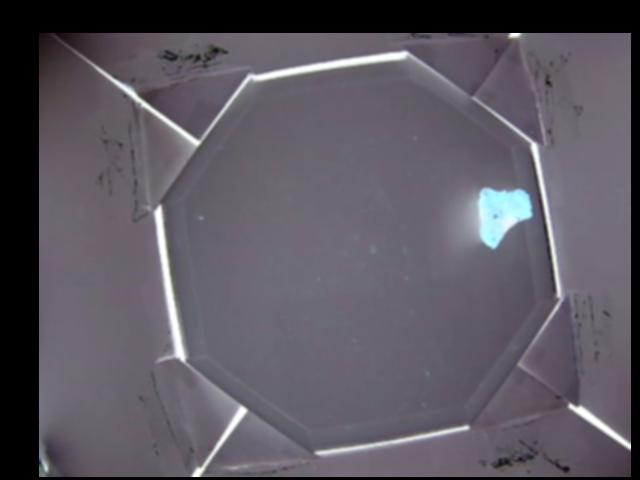Brisk: (476, 187, 532, 249)
